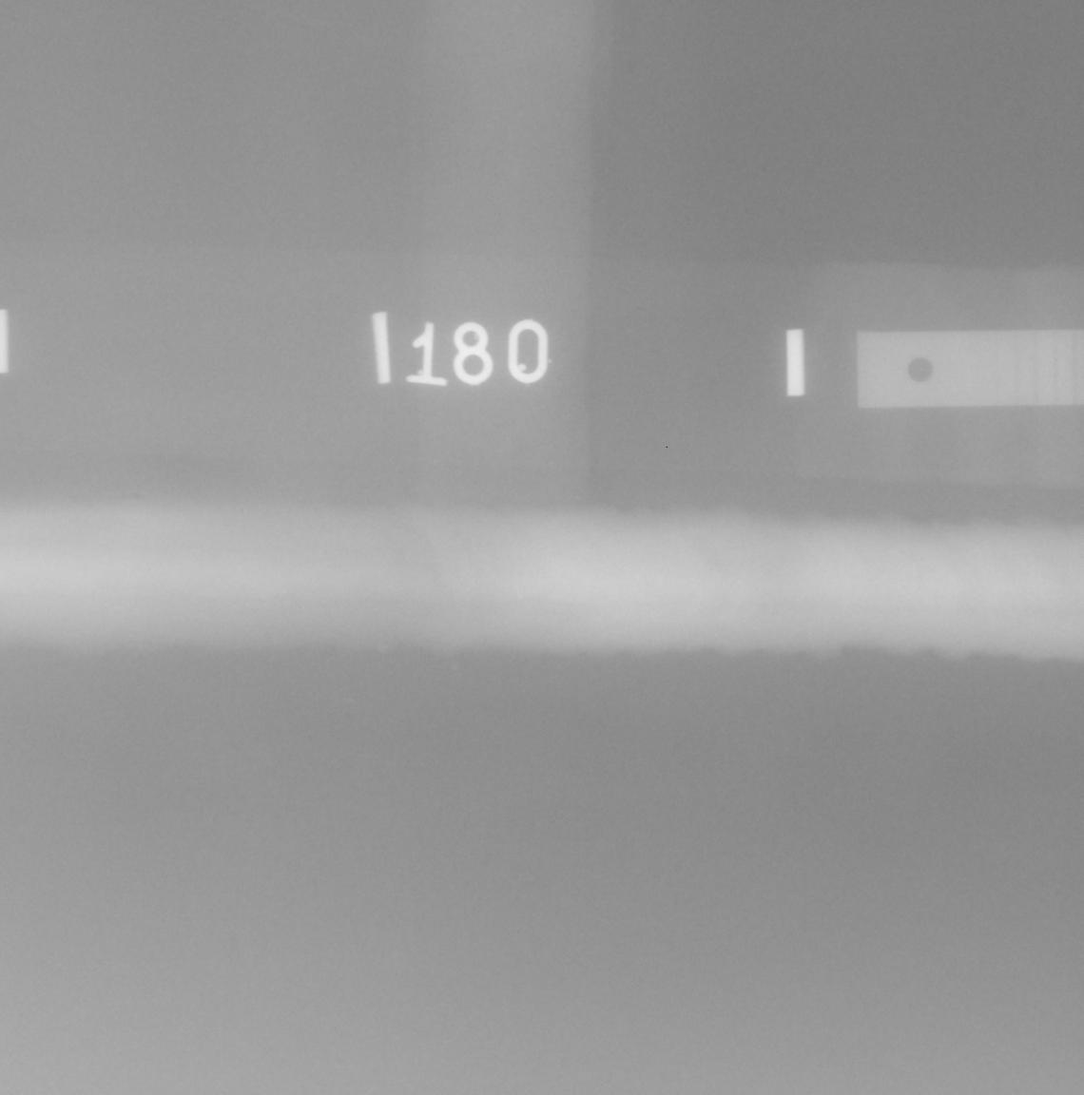Undercut: (119, 492, 140, 501)
